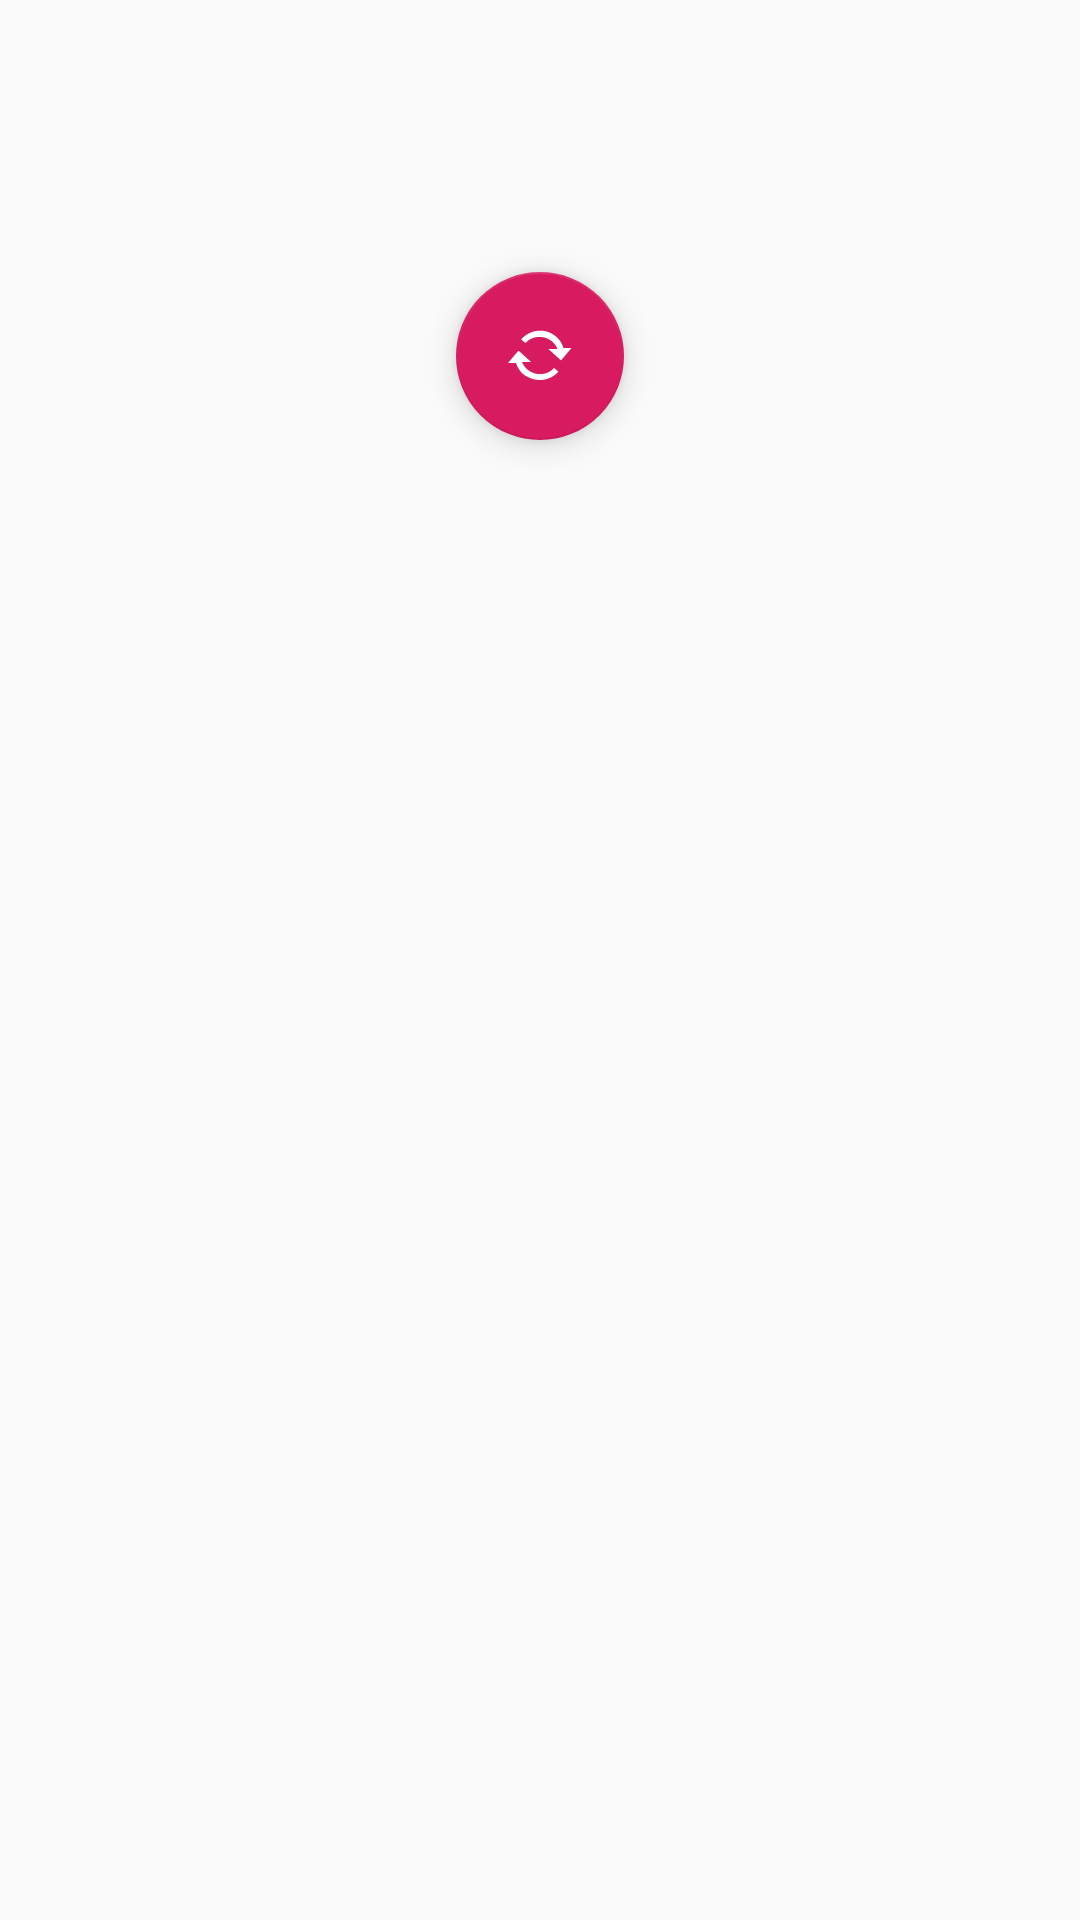

Where icons sit on this 1080 × 1920 app screen, as (x1, y1, x2, y2):
sync: (456, 272, 624, 440)
